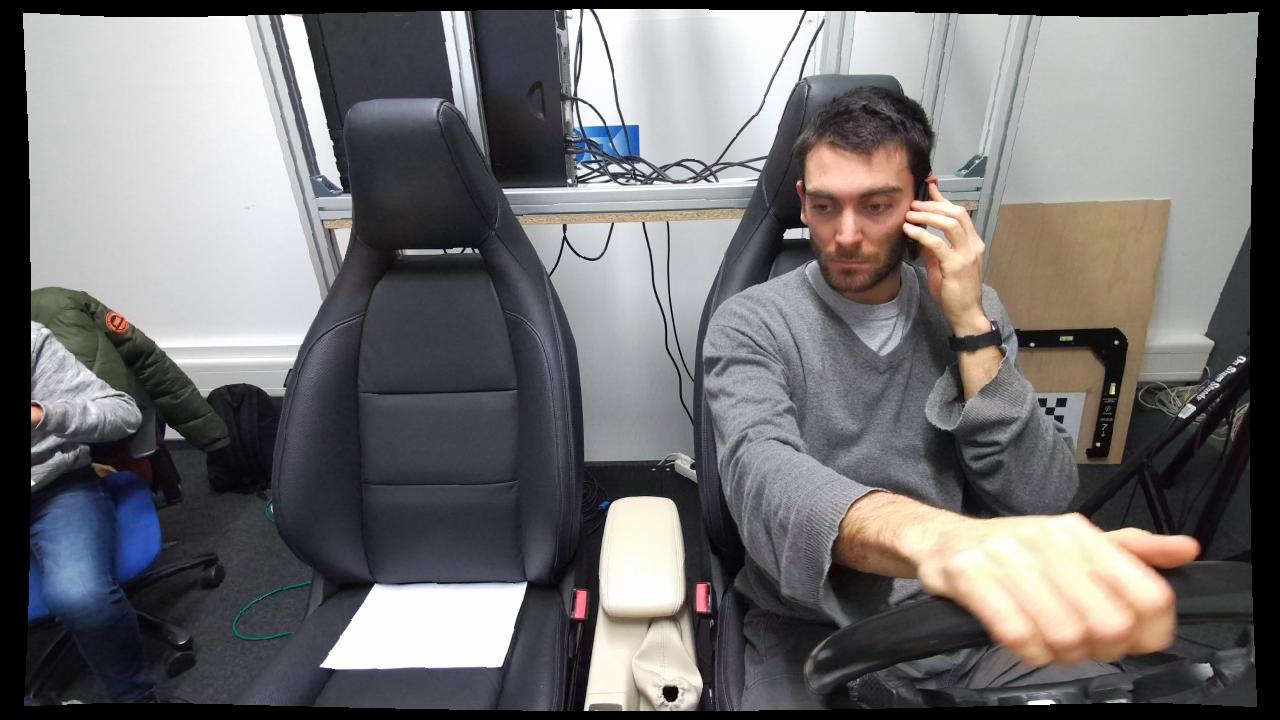Distracted: (697, 81, 1060, 707)
PhoneUse: (895, 172, 948, 282)
